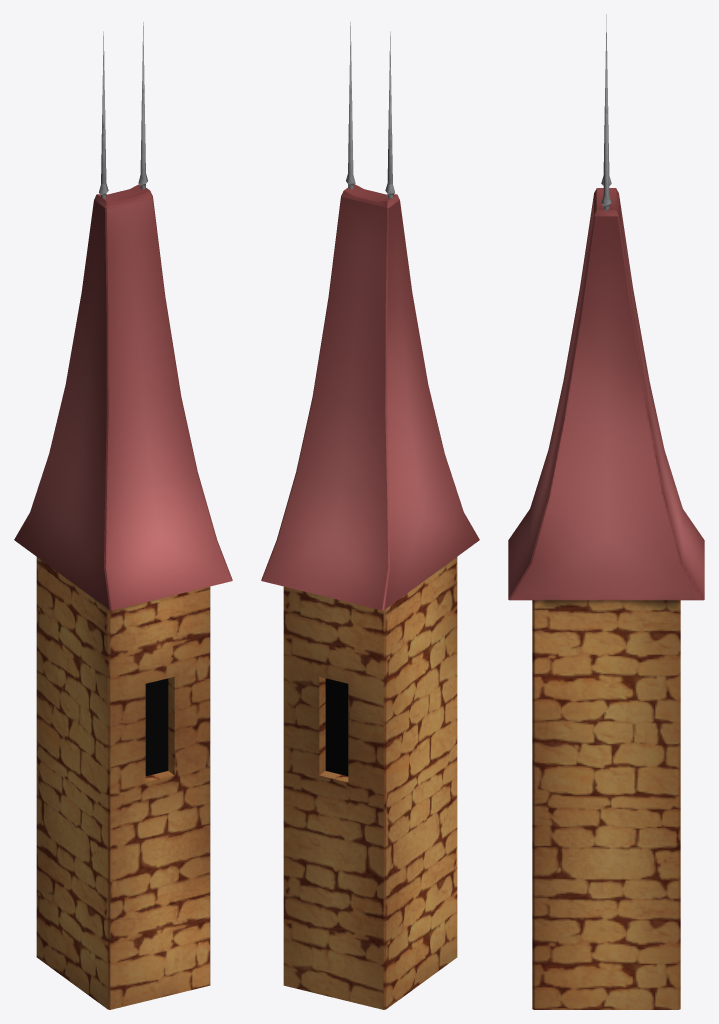
File: sb_obj_outdoor024_PrincessCastle01_hut00.fbx
3 renders of one model, left to right at view 1: azimuth 30°, elevation 25°; view 2: azimuth 150°, elevation 25°; view 3: azimuth 270°, elevation 25°, orthographic.
Parts seen in each view (by area): view 1: sb_obj_outdoor024_PrincessCastle01_hut00; view 2: sb_obj_outdoor024_PrincessCastle01_hut00; view 3: sb_obj_outdoor024_PrincessCastle01_hut00.
Boxes of the visible parts, <box> form: sb_obj_outdoor024_PrincessCastle01_hut00: <box>14,22,232,1009</box>; sb_obj_outdoor024_PrincessCastle01_hut00: <box>261,22,479,1009</box>; sb_obj_outdoor024_PrincessCastle01_hut00: <box>508,14,704,1009</box>.
Bounding box in the file's own units: 0.8486 × 6.28 × 1.16.
